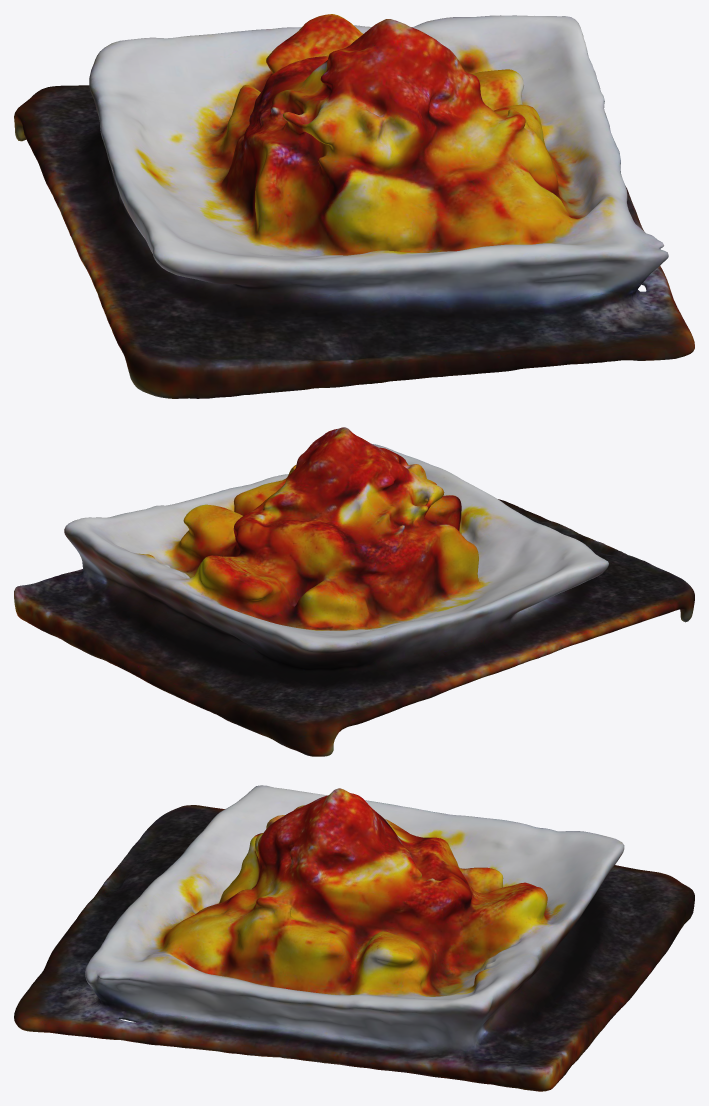
File: Bravas_3D.fbx
3 views of the same model, one above another, from view 1: azimuth 30°, elevation 25°; view 2: azimuth 150°, elevation 25°; view 3: azimuth 270°, elevation 25° (orthographic). The views are drawn at different scales.
Visible parts, largest first — view 1: high_poly; view 2: high_poly; view 3: high_poly.
Boxes of the visible parts, x1,y1,x2,y2 form: high_poly: [14, 14, 694, 398]; high_poly: [14, 427, 694, 756]; high_poly: [14, 785, 694, 1091].
Bounding box in the file's own units: 93.24 × 31.23 × 100.
